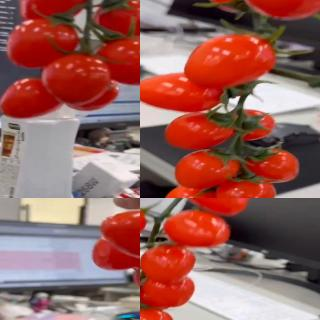tomato: (185, 34, 279, 91), (7, 19, 84, 69), (41, 53, 111, 106), (140, 72, 226, 114), (163, 112, 237, 152), (175, 147, 242, 188), (164, 209, 232, 248), (0, 74, 61, 116), (140, 244, 197, 284), (90, 0, 140, 44), (97, 37, 140, 84), (243, 147, 300, 182), (140, 273, 195, 309), (102, 207, 140, 257), (20, 0, 94, 22), (229, 108, 277, 141), (241, 0, 320, 20), (185, 198, 252, 218), (215, 177, 278, 198), (160, 182, 220, 198), (205, 0, 252, 13), (140, 307, 175, 320)
